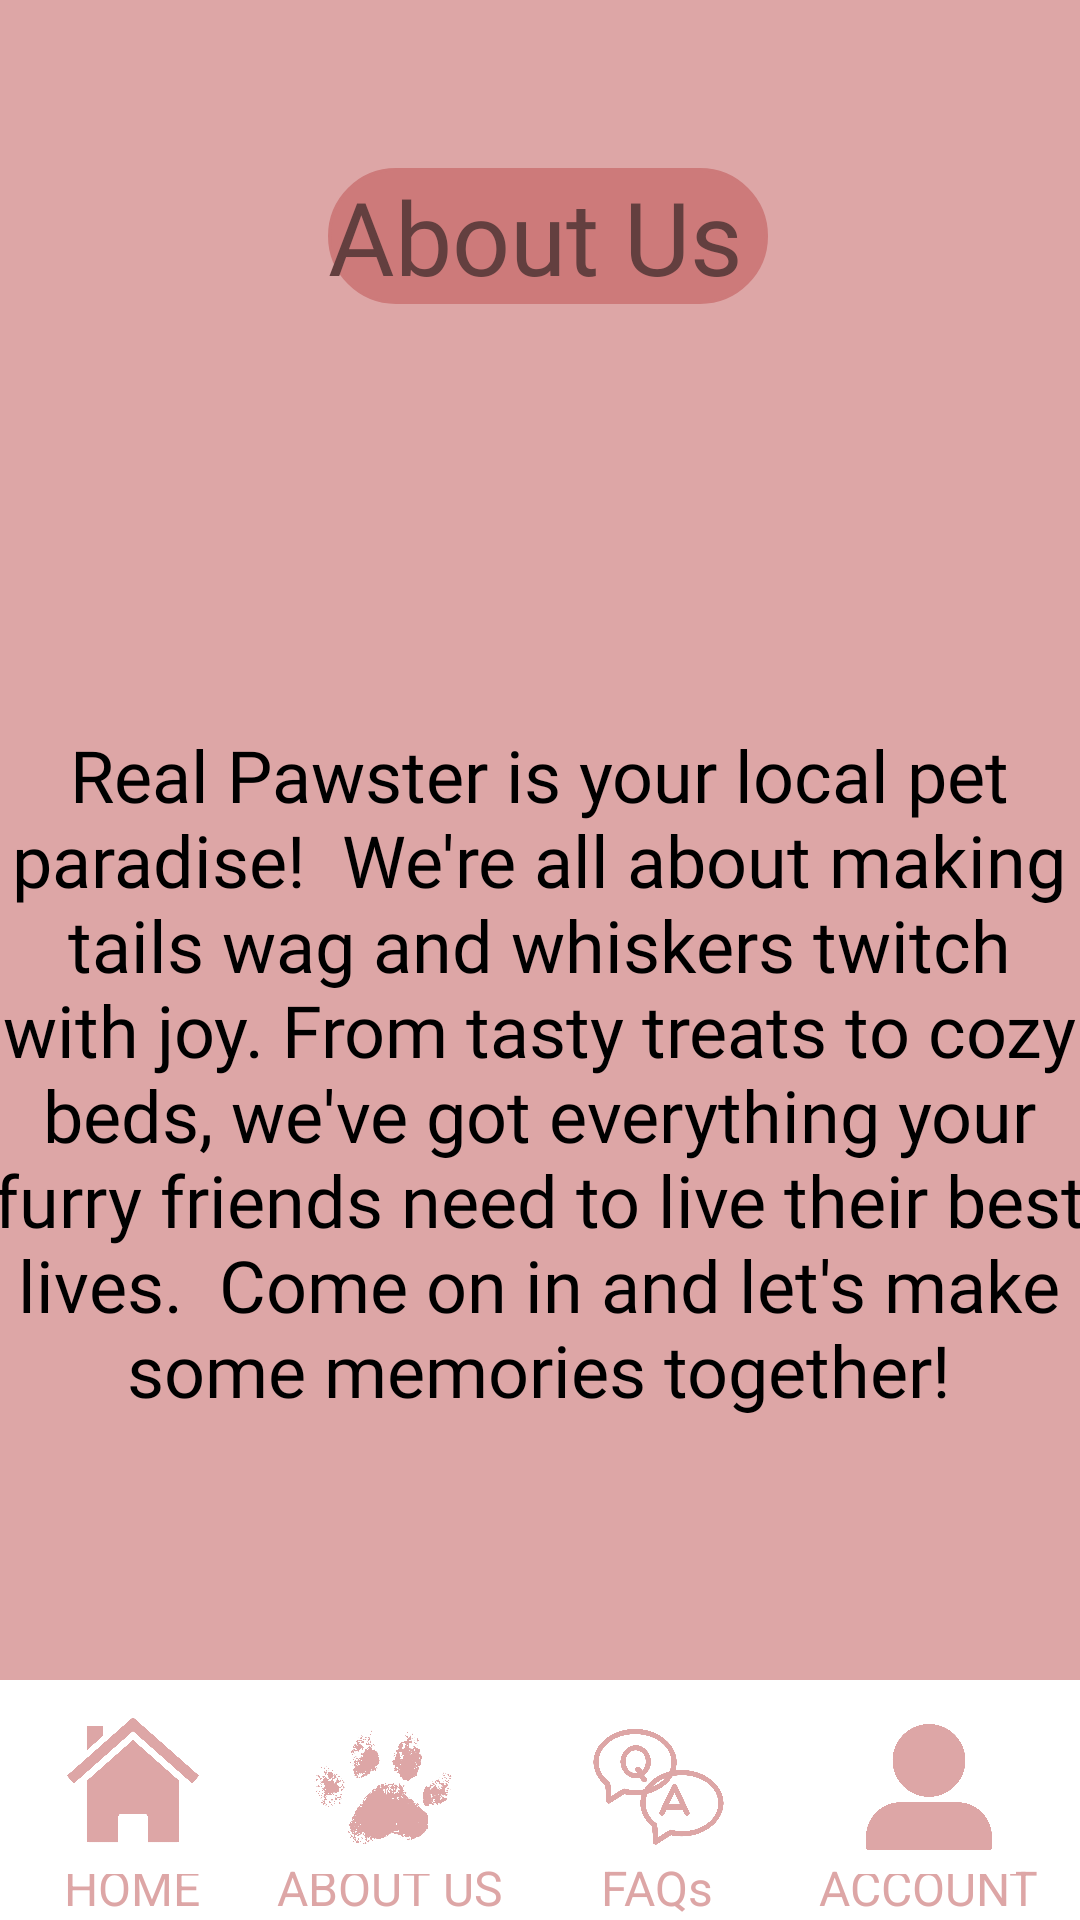

Icon bounding boxes for this 1080x1920 phone screenshot, format (x1, y1, x2, y2):
paw: (316, 1731, 451, 1844)
